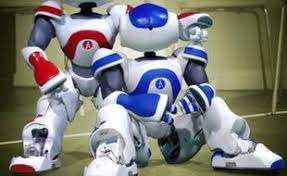nao: (1, 1, 212, 176), (87, 3, 285, 176)
